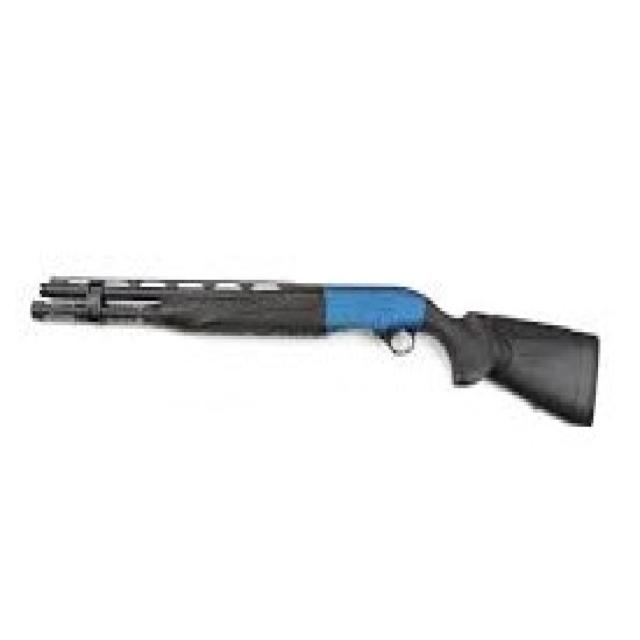rifle: (30, 267, 605, 448)
